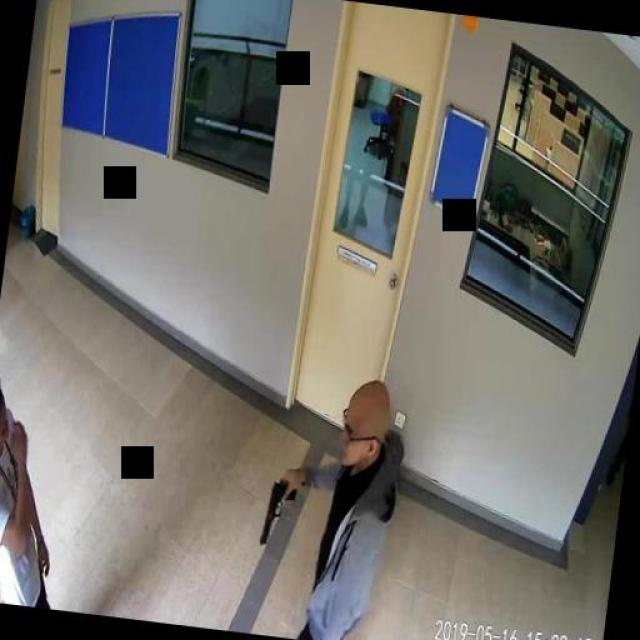gun: (259, 474, 296, 545)
